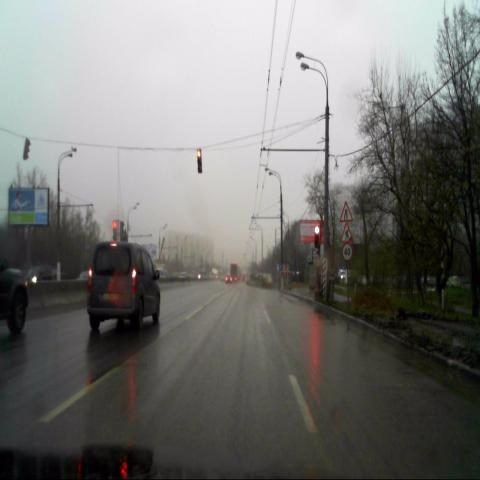1_20_2: (340, 200, 353, 222)
